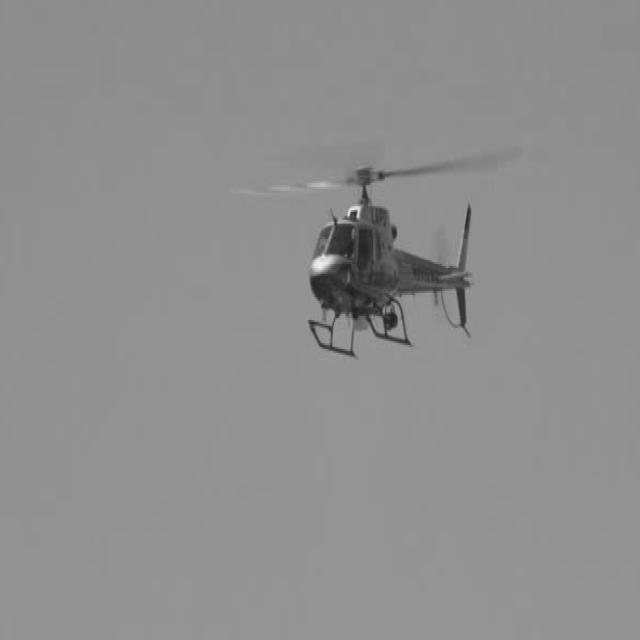helicopter: (248, 155, 523, 360)
